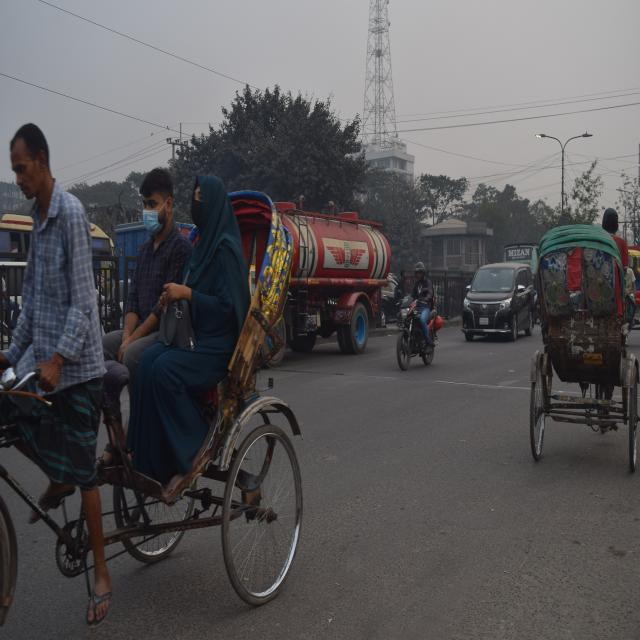car: (457, 254, 539, 346)
motorbike: (393, 292, 442, 374)
truck: (244, 185, 394, 363)
